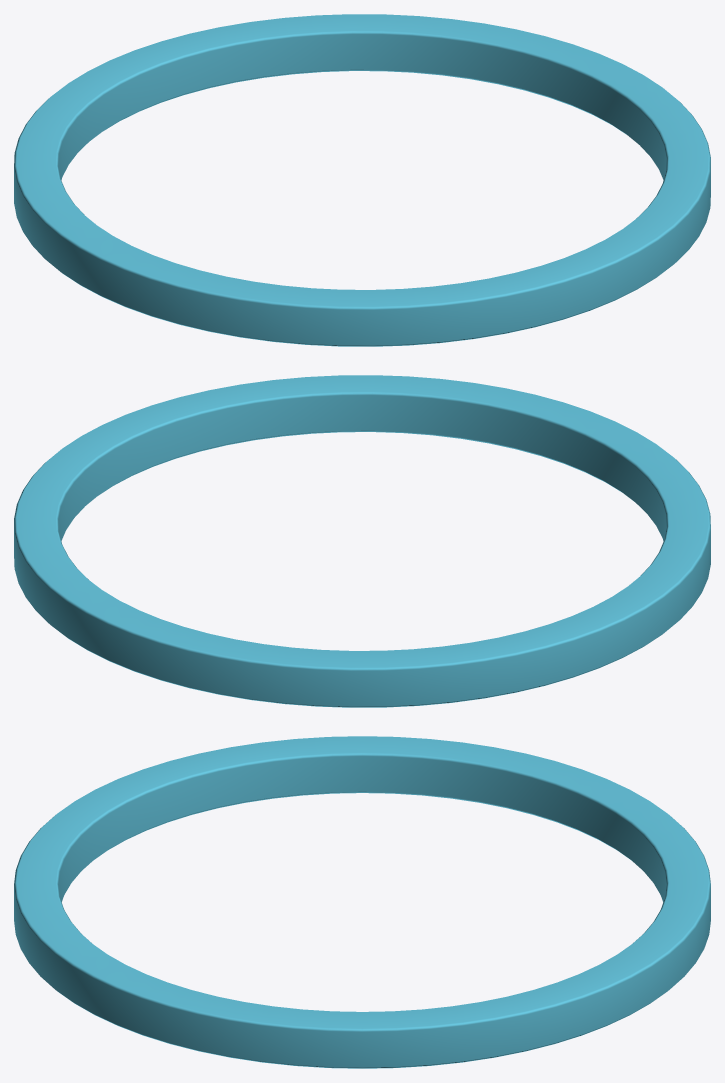
3 renders of one model, top to bottom at view 1: azimuth 30°, elevation 25°; view 2: azimuth 150°, elevation 25°; view 3: azimuth 270°, elevation 25°, orthographic.
Visible parts, largest first — view 1: seal_body; view 2: seal_body; view 3: seal_body.
Part boxes in pixels (bbox=[...]): seal_body: bbox=[14, 14, 710, 346]; seal_body: bbox=[14, 375, 710, 707]; seal_body: bbox=[14, 736, 710, 1068].
Size of the model in its own units: 0.1492 by 0.00952 by 0.1492.
